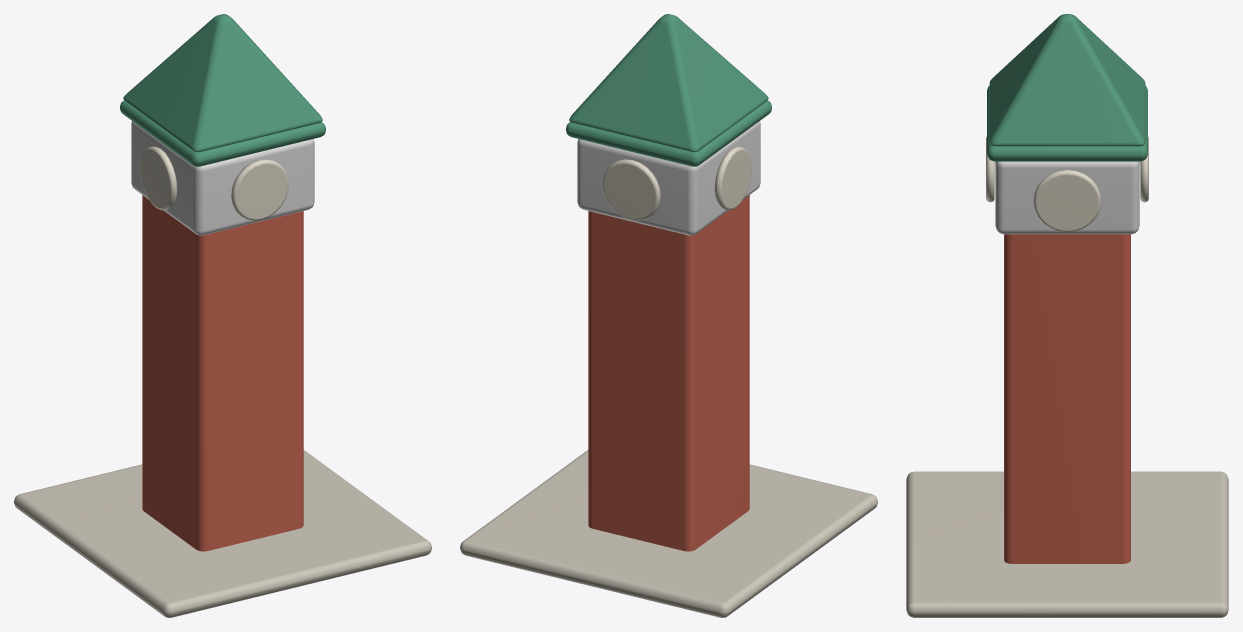
3 views of the same model, side by side, from view 1: azimuth 30°, elevation 25°; view 2: azimuth 150°, elevation 25°; view 3: azimuth 270°, elevation 25° (orthographic). The views are drawn at different scales.
Visible parts, largest first — view 1: Cube; view 2: Cube; view 3: Cube.
Part boxes in pixels (box(x1,y1,x2,y2)): Cube: box(14, 14, 431, 617); Cube: box(460, 14, 877, 617); Cube: box(906, 14, 1228, 617).
Bounding box in the file's own units: 0.76 × 1.4 × 0.76.
